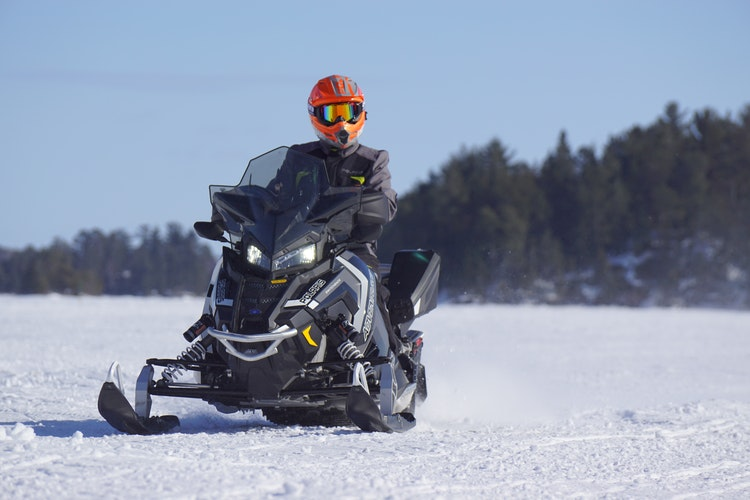helmet: (304, 69, 369, 149)
